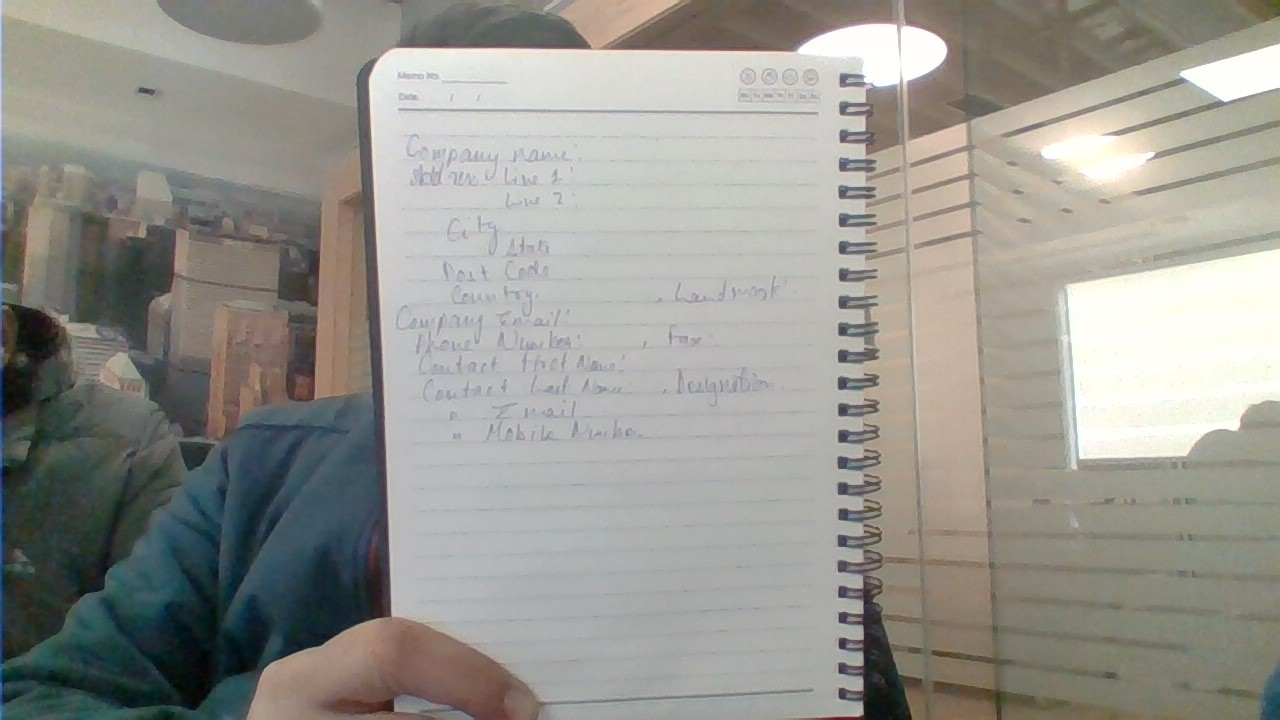notebook: (362, 44, 877, 720)
